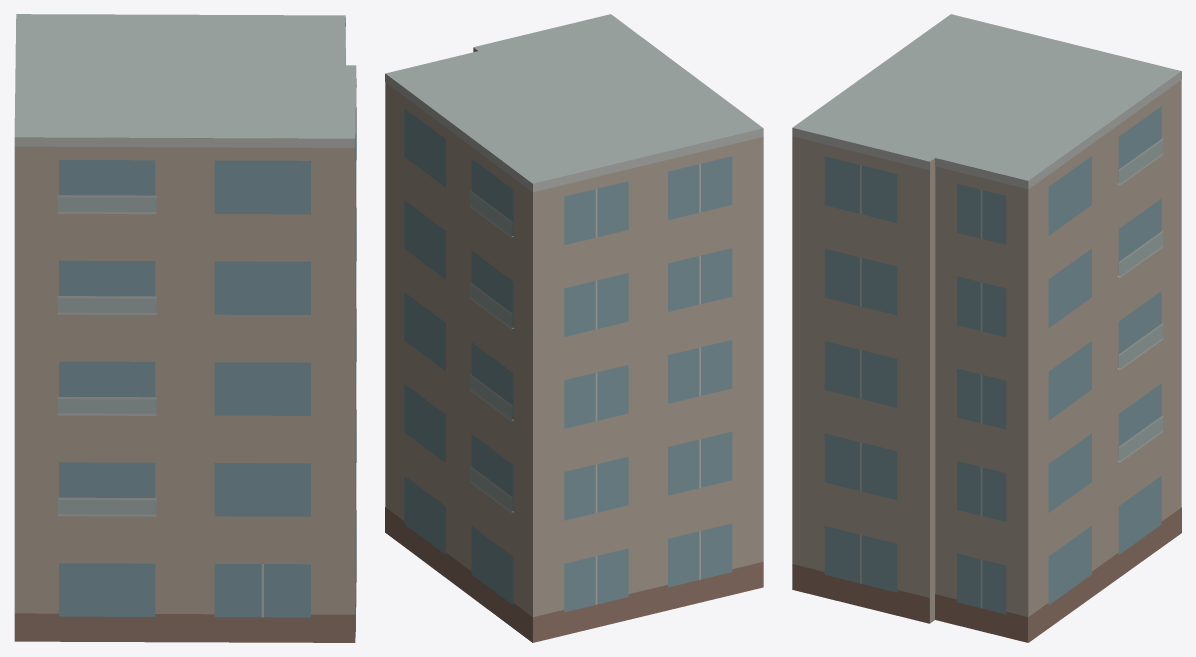
File: survey-upis-32954218.glb
The picture shows the model from 3 angles, left to right: view 1: azimuth 30°, elevation 25°; view 2: azimuth 150°, elevation 25°; view 3: azimuth 270°, elevation 25°; orthographic projection. The views are drawn at different scales.
Visible parts, largest first — view 1: survey-upis-32954218.tmp; view 2: survey-upis-32954218.tmp; view 3: survey-upis-32954218.tmp.
Boxes of the visible parts, bbox=[...] form: survey-upis-32954218.tmp: bbox=[14, 14, 356, 642]; survey-upis-32954218.tmp: bbox=[385, 14, 763, 642]; survey-upis-32954218.tmp: bbox=[792, 14, 1181, 642].
Size of the model in its own units: 10.24 by 13.2 by 10.09.
